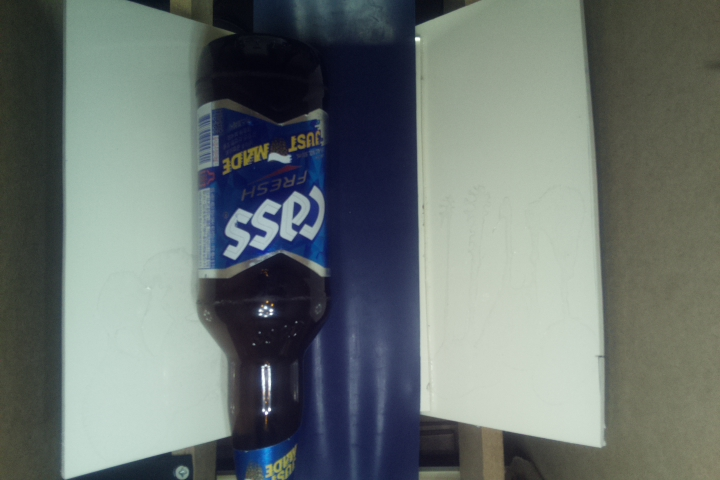makju: (194, 38, 336, 480)
